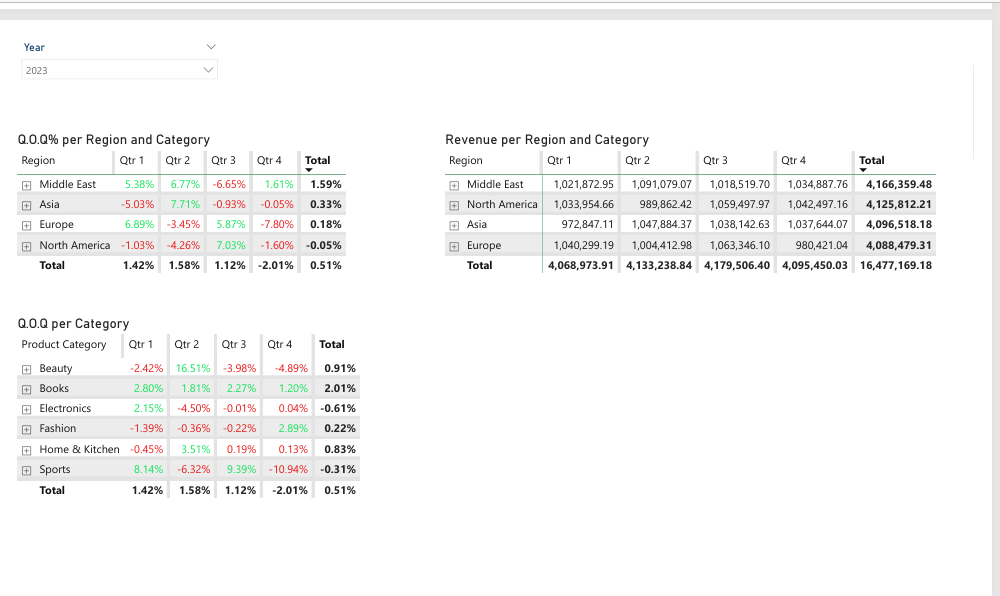

The dashboard page shown, as its layout file describes it:
{"tool":"powerbi","page":{"name":"Page 2","canvas":[1280,720],"ordinal":1},"visuals":[{"type":"pivotTable","title":"Revenue per Region and Category","fields":{"Columns":["amazon_sales_dataset.order_date.Variation.Date Hierarchy.Quarter"],"Values":["Sum(amazon_sales_dataset.total_revenue)"],"Rows":["amazon_sales_dataset.customer_region","amazon_sales_dataset.product_category"]},"box":[570.1,125.5,693.8,209.7],"z":1000},{"type":"slicer","fields":{"Values":["amazon_sales_dataset.order_date.Variation.Date Hierarchy.Year"]},"box":[0,0,282.4,70.2],"z":2000},{"type":"pivotTable","title":"Q.O.Q% per Region and Category","fields":{"Rows":["amazon_sales_dataset.customer_region","amazon_sales_dataset.product_category"],"Columns":["amazon_sales_dataset.order_date.Variation.Date Hierarchy.Quarter"],"Values":["amazon_sales_dataset.Sum of total_revenue QoQ%"]},"box":[0,125.5,523.5,209.7],"z":3001},{"type":"pivotTable","title":"Q.O.Q per Category","fields":{"Rows":["amazon_sales_dataset.product_category","amazon_sales_dataset.customer_region"],"Columns":["amazon_sales_dataset.order_date.Variation.Date Hierarchy.Quarter"],"Values":["amazon_sales_dataset.Sum of total_revenue QoQ%"]},"box":[0,370.2,538.5,263.4],"z":3002}]}

Visuals, with their boxes on the page's 1280x720 design canvas (x1, y1, x2, y2). These are canvas units, not pixel positions in the 1000x596 screenshot, which may show the page scaled, cropped or inside an application window:
"Revenue per Region and Category" pivotTable: 570/126/1264/335
slicer - amazon_sales_dataset.order_date.Variation.Date Hierarchy.Year: 0/0/282/70
"Q.O.Q% per Region and Category" pivotTable: 0/126/524/335
"Q.O.Q per Category" pivotTable: 0/370/538/634
